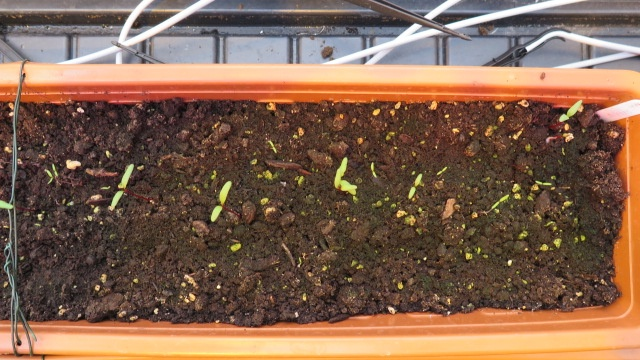crop: (106, 162, 135, 211), (329, 156, 359, 197), (208, 180, 234, 223), (550, 99, 582, 132)
weed: (406, 172, 426, 199), (491, 194, 509, 210), (50, 161, 65, 178), (368, 161, 380, 178), (44, 168, 55, 184), (535, 179, 553, 188)
